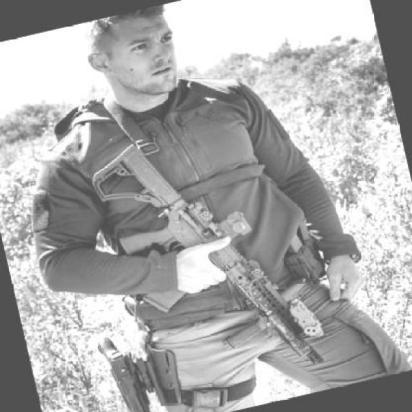Gun: (116, 146, 316, 357)
